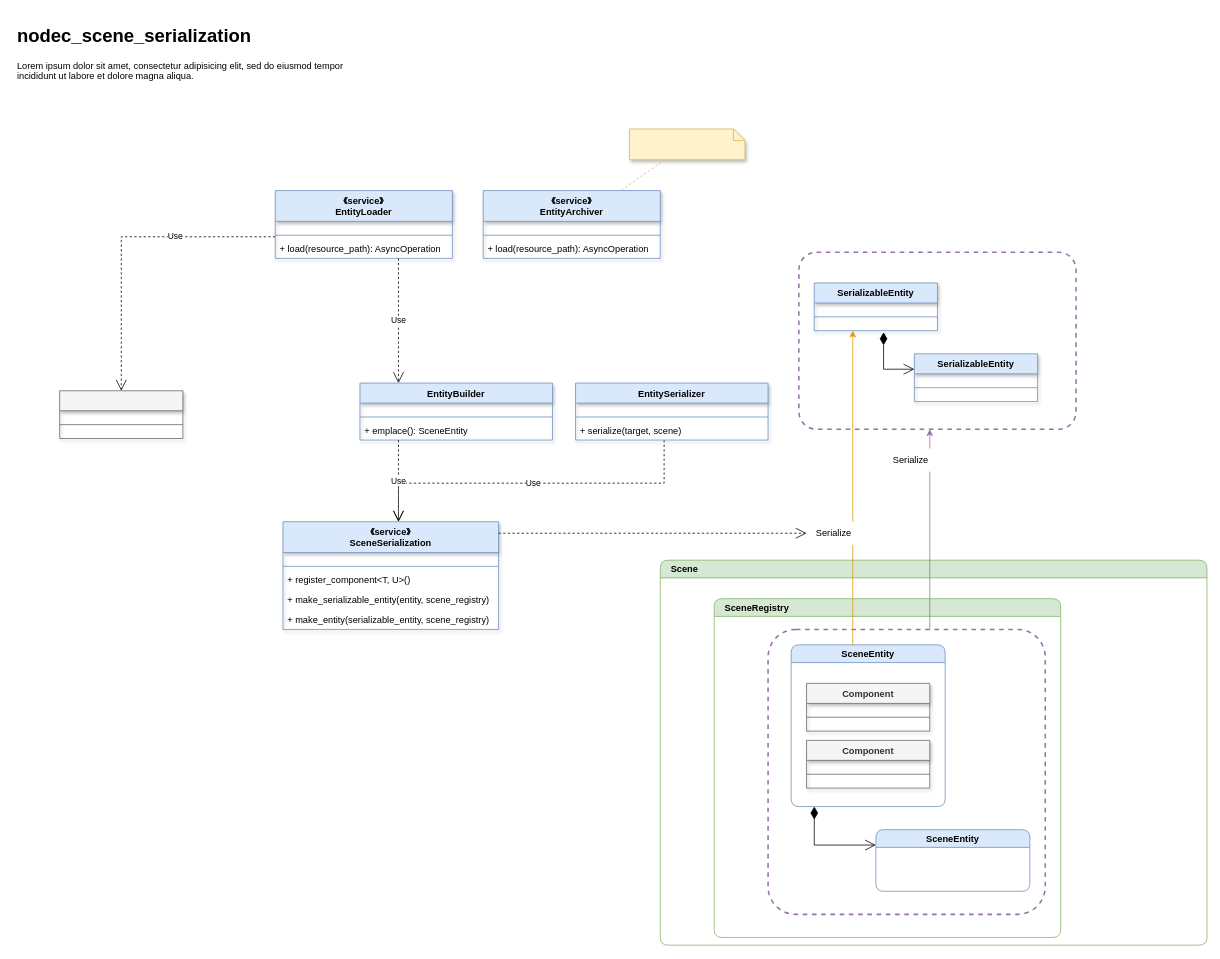
Some shapes in this 1220 by 959 pixel diagram are drawn without their labels. The centre of each missing label's shape, as x and y in pixels:
"ResourceRegisty" belongs at [121,415].
"検討中" belongs at [688,145].
